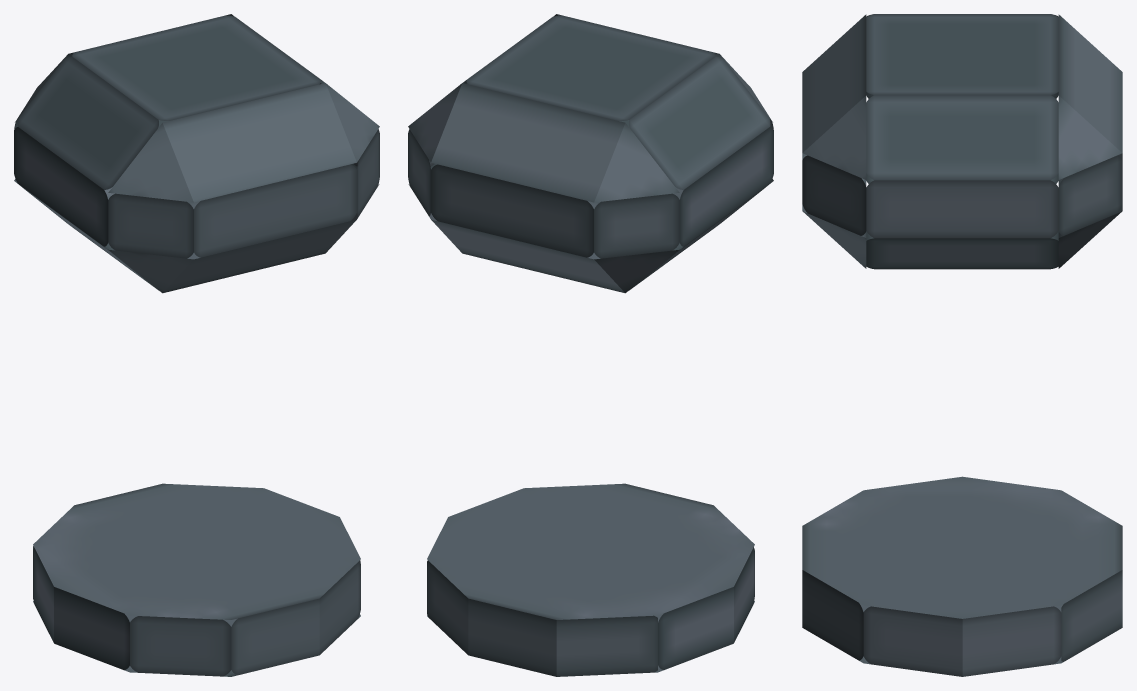
Rendered from sceptic_tank.obj.
3 renders of one model, left to right at view 1: azimuth 30°, elevation 25°; view 2: azimuth 150°, elevation 25°; view 3: azimuth 270°, elevation 25°, orthographic. The views are drawn at different scales.
Parts seen in each view (by area): view 1: beveled_cuboid, cylinder; view 2: beveled_cuboid, cylinder; view 3: beveled_cuboid, cylinder.
Part boxes in pixels (x1=…): beveled_cuboid: x1=14, y1=14, x2=379, y2=293; cylinder: x1=33, y1=483, x2=360, y2=676; beveled_cuboid: x1=408, y1=14, x2=773, y2=293; cylinder: x1=427, y1=483, x2=754, y2=676; beveled_cuboid: x1=802, y1=14, x2=1122, y2=269; cylinder: x1=802, y1=476, x2=1122, y2=676.
Bounding box in the file's own units: 0.6572 × 1.19 × 0.625.
1 material, 1 textured.
